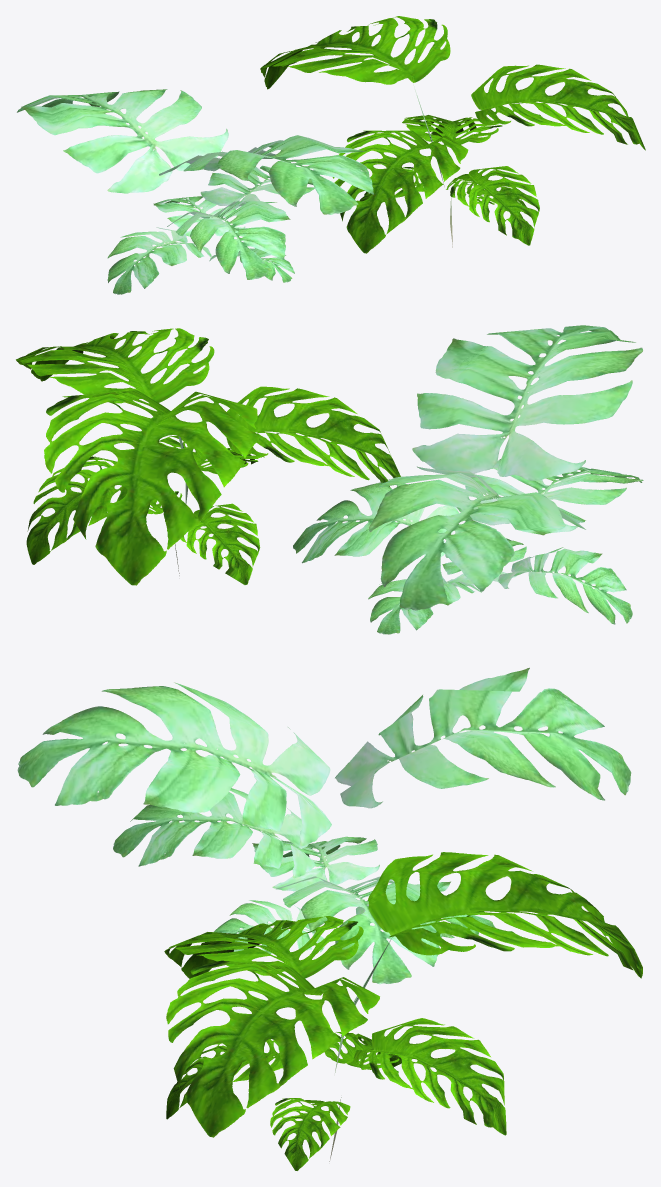
Rendered from monstera-a.lod0.glb.
3 renders of one model, top to bottom at view 1: azimuth 30°, elevation 25°; view 2: azimuth 150°, elevation 25°; view 3: azimuth 270°, elevation 25°, orthographic. The views are drawn at different scales.
Visible parts, largest first — view 1: Object_4; view 2: Object_4; view 3: Object_4.
Boxes of the visible parts, box(x1,y1,x2,y2) form: Object_4: box(17, 16, 645, 294); Object_4: box(16, 325, 643, 634); Object_4: box(17, 667, 642, 1170).
Size of the model in its own units: 3.22 by 1.19 by 2.45.
Materials: 1 (1 with a texture image).
